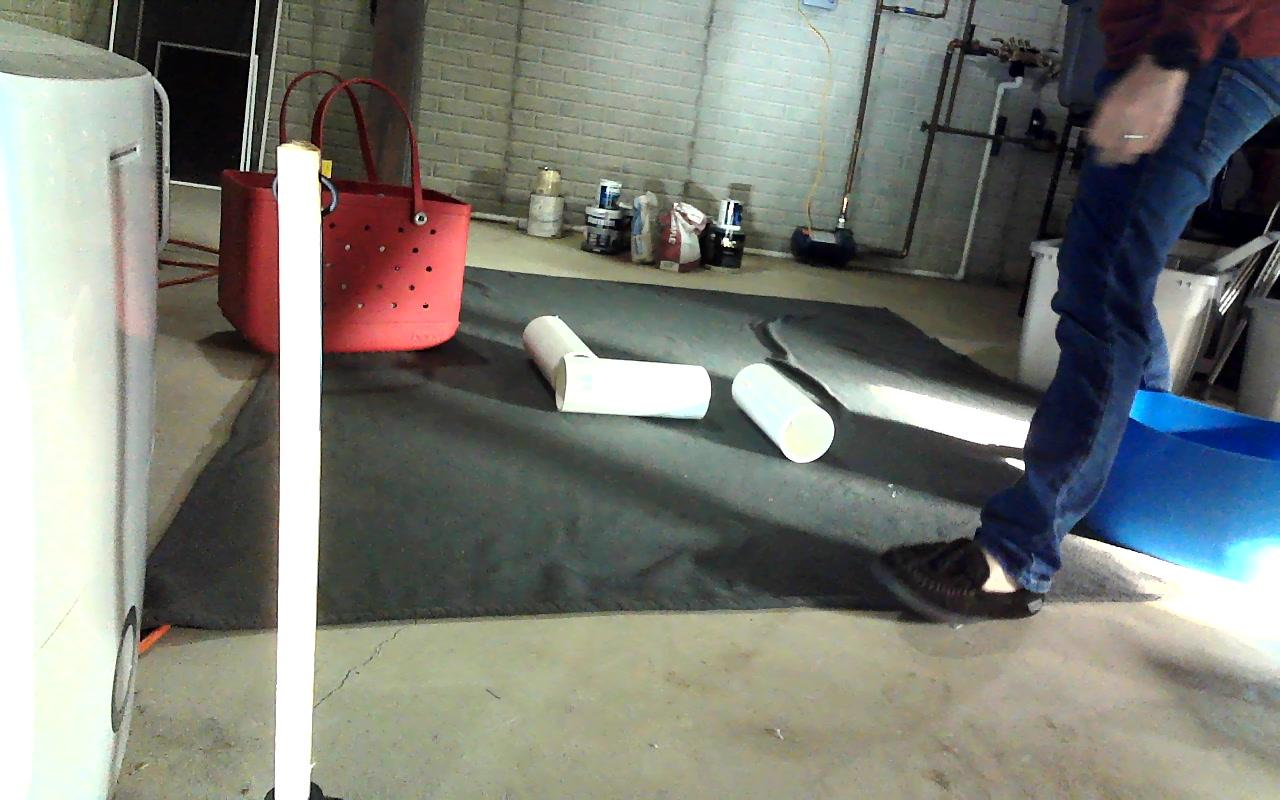coral: (732, 363, 835, 462), (558, 355, 710, 420), (525, 315, 602, 391)
